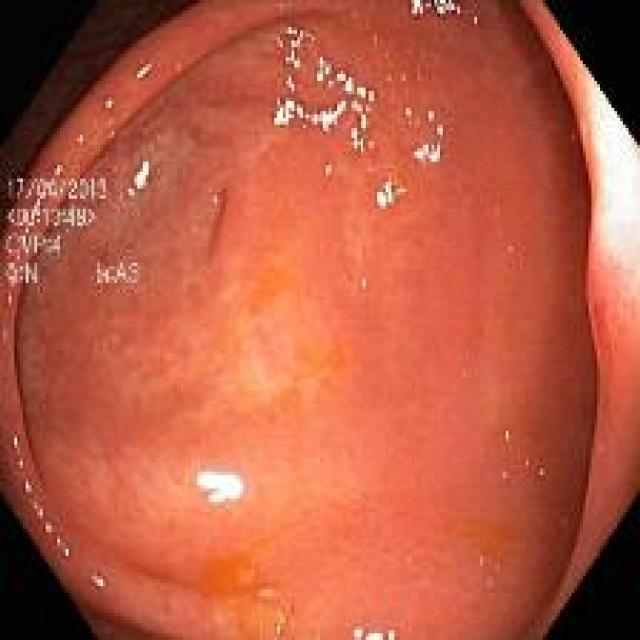ulcerative-colitis-grade-1: (16, 4, 596, 638)
